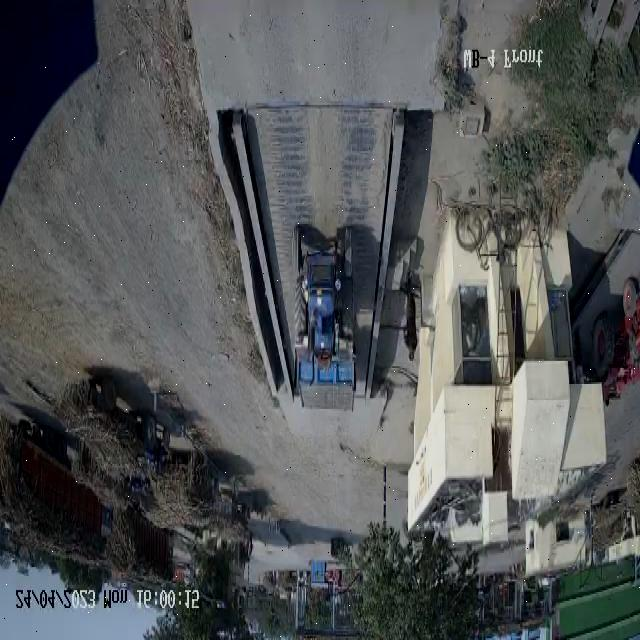Tratores - v5 YOLO V8L 2024-11-13: (294, 216, 352, 368), (132, 425, 176, 479)
